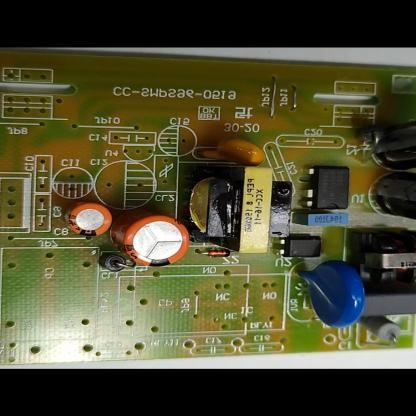Cap1: (108, 210, 195, 272)
Cap2: (63, 202, 115, 239)
Cap3: (366, 169, 416, 229)
Cap4: (366, 112, 416, 171)
MOSFET: (300, 165, 352, 210)
Mov: (292, 259, 367, 329)
Resistor: (360, 313, 406, 345)
Transformer: (177, 162, 277, 256), (351, 232, 415, 292)
